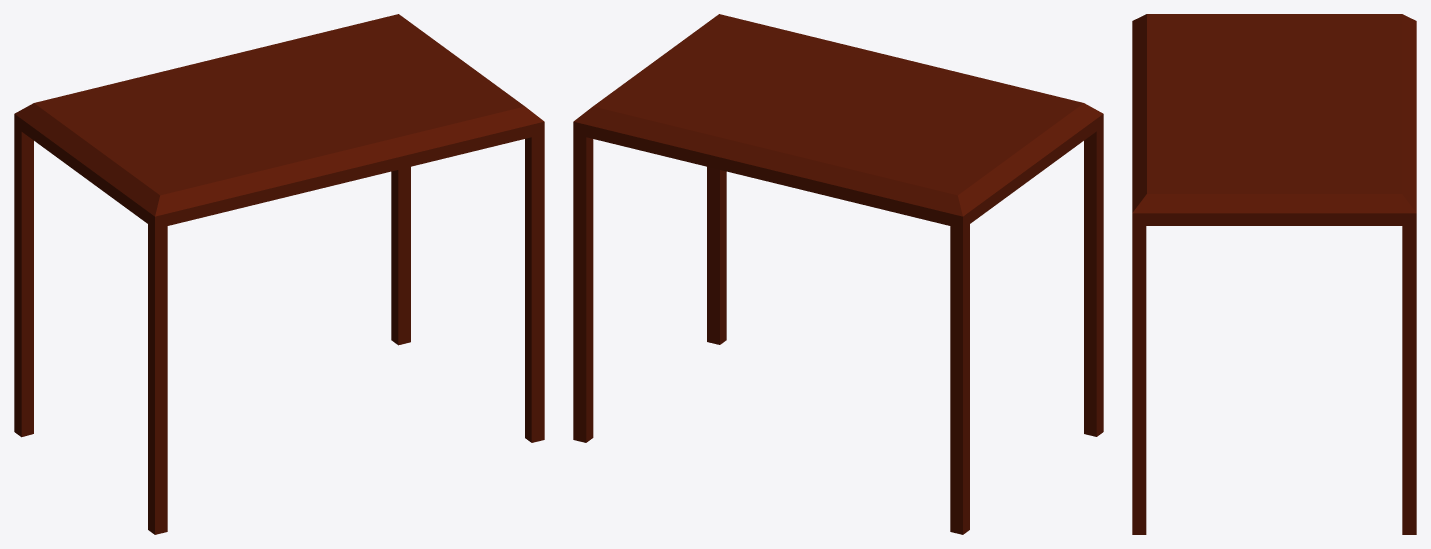
File: Table.FBX
3 renders of one model, left to right at view 1: azimuth 30°, elevation 25°; view 2: azimuth 150°, elevation 25°; view 3: azimuth 270°, elevation 25°, orthographic.
Parts seen in each view (by area): view 1: Box001; view 2: Box001; view 3: Box001.
Part boxes in pixels (box(x1,y1,x2,y2)): Box001: box(14, 14, 544, 534); Box001: box(573, 14, 1103, 534); Box001: box(1132, 14, 1416, 534).
Size of the model in its own units: 40 by 32.5 by 25.
